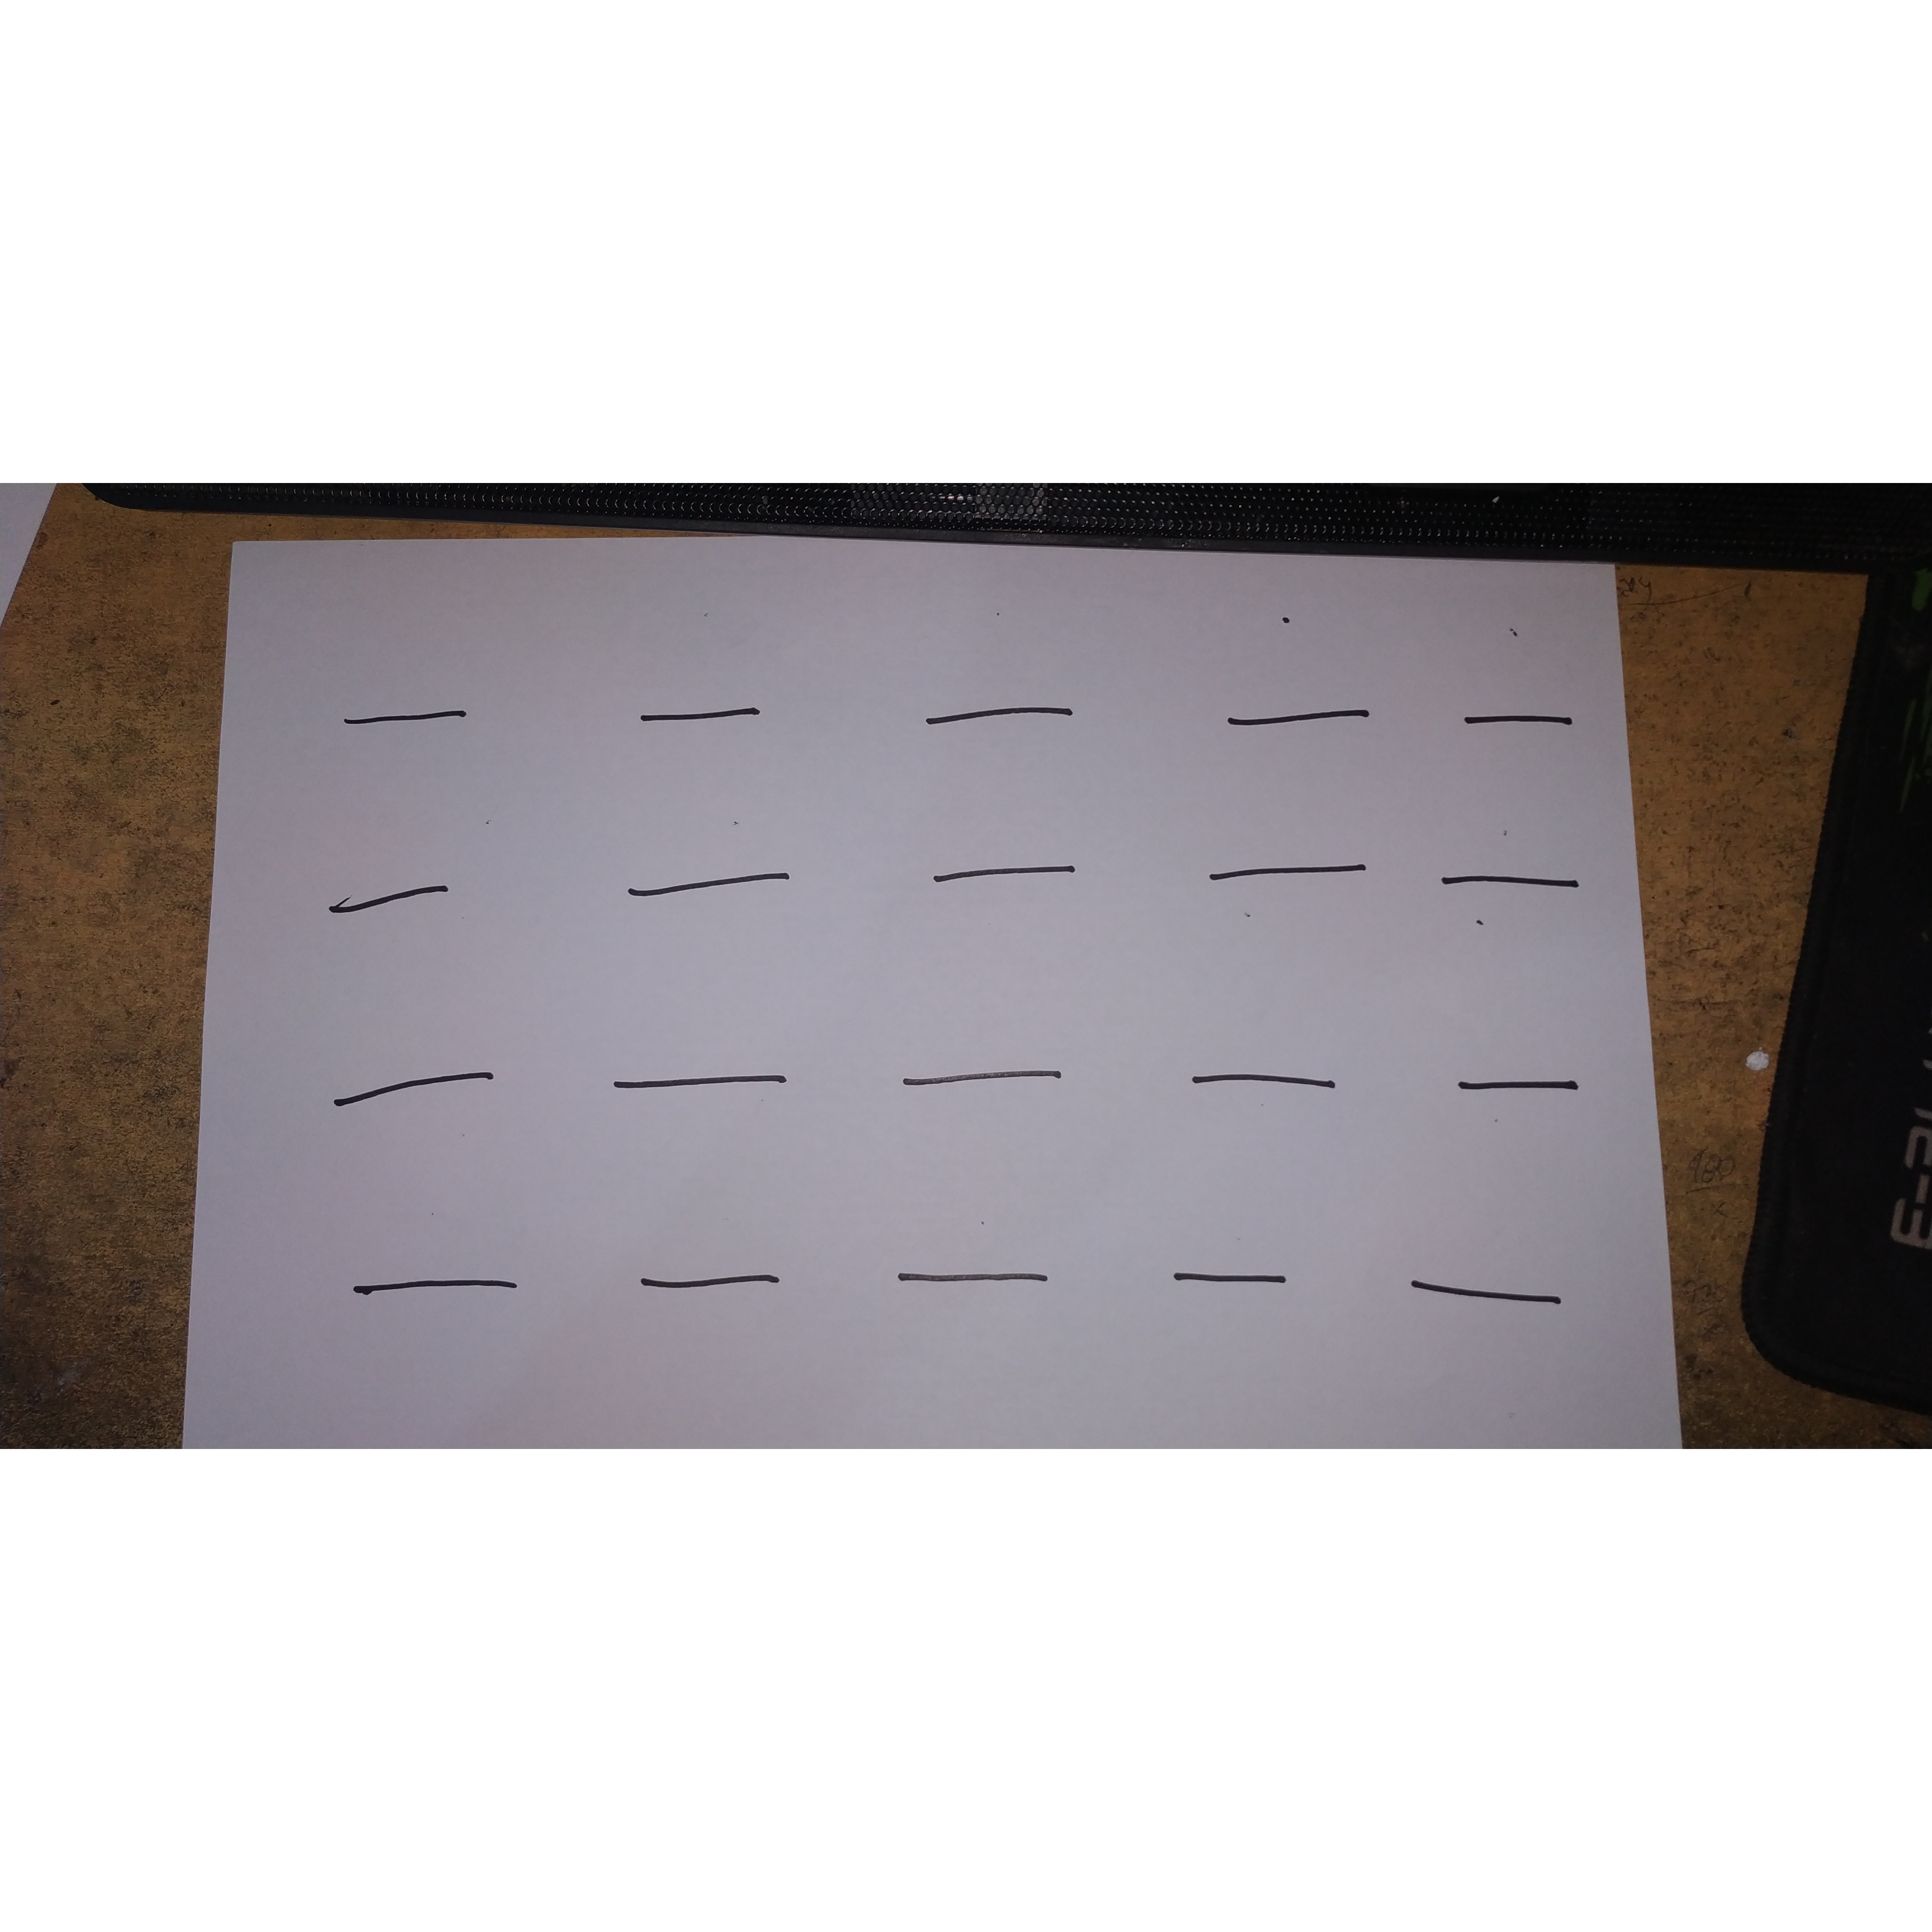min: (895, 823, 1124, 924), (1175, 815, 1399, 911), (582, 1035, 832, 1119), (286, 1048, 530, 1130), (1395, 1241, 1592, 1337), (339, 1247, 568, 1329), (1166, 1044, 1368, 1130), (1200, 676, 1408, 752), (1139, 1243, 1332, 1325), (893, 678, 1109, 748), (874, 1241, 1091, 1310), (881, 1044, 1095, 1115), (284, 859, 494, 930), (593, 852, 816, 920), (610, 1243, 826, 1310), (1435, 674, 1607, 758), (1433, 840, 1603, 922), (614, 672, 790, 748), (327, 676, 509, 748), (1446, 1052, 1607, 1130)
